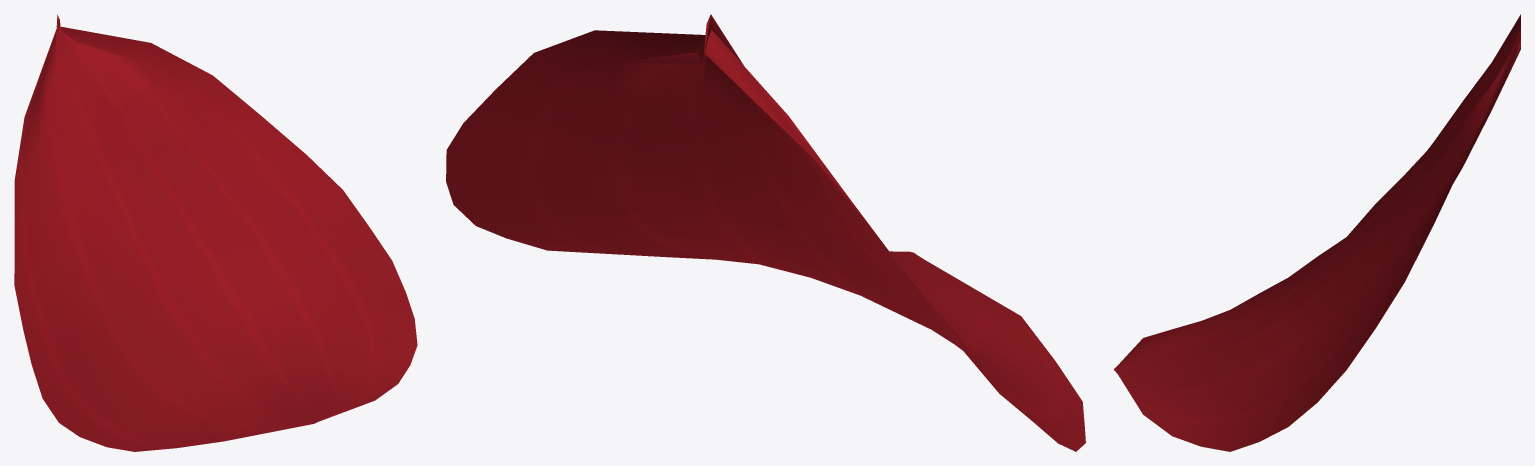
File: petal_06_medium.glb
The picture shows the model from 3 angles, left to right: view 1: azimuth 30°, elevation 25°; view 2: azimuth 150°, elevation 25°; view 3: azimuth 270°, elevation 25°; orthographic projection. The views are drawn at different scales.
Parts seen in each view (by area): view 1: petal_06_medium; view 2: petal_06_medium; view 3: petal_06_medium.
Part boxes in pixels (<box>): petal_06_medium: <box>14,14,417,451</box>; petal_06_medium: <box>446,14,1085,451</box>; petal_06_medium: <box>1114,14,1520,451</box>.
Size of the model in its own units: 0.0874 by 0.0754 by 0.0805.
Materials: 1 (1 with a texture image).
